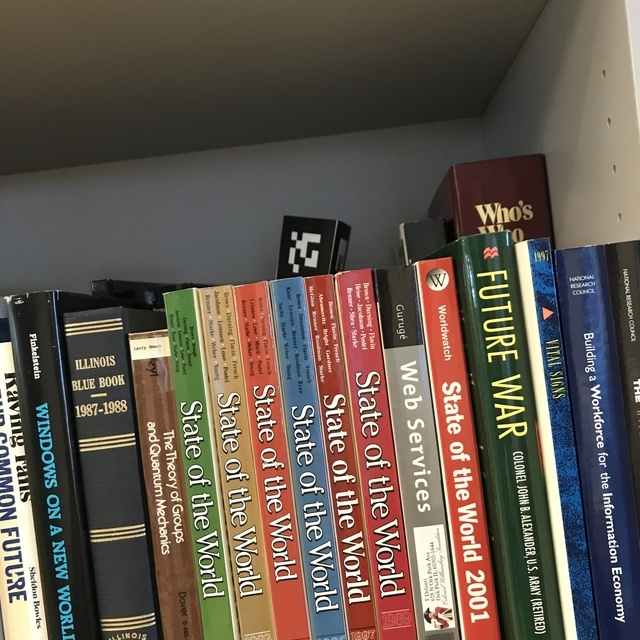ARTag: (275, 215, 352, 286)
